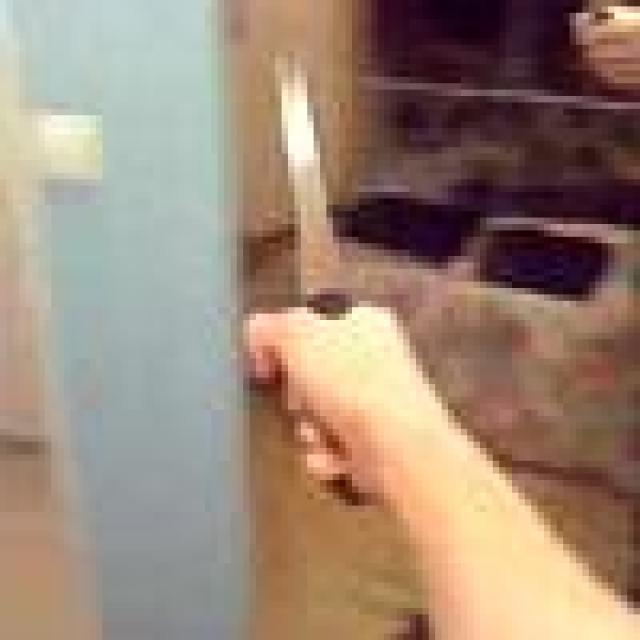knife: (274, 61, 338, 314)
